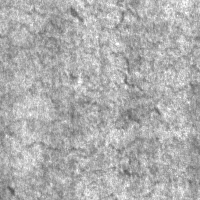crazing: (116, 6, 198, 99), (45, 134, 198, 179), (1, 104, 123, 158)
